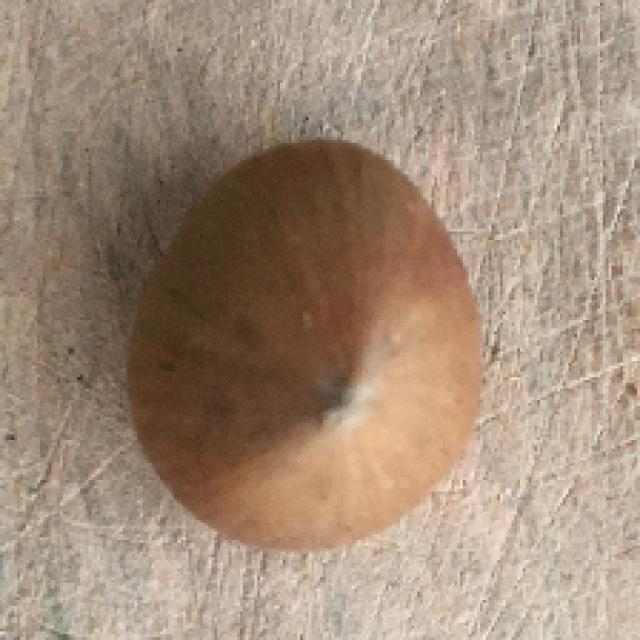damagedHazelnut: (124, 138, 485, 555)
